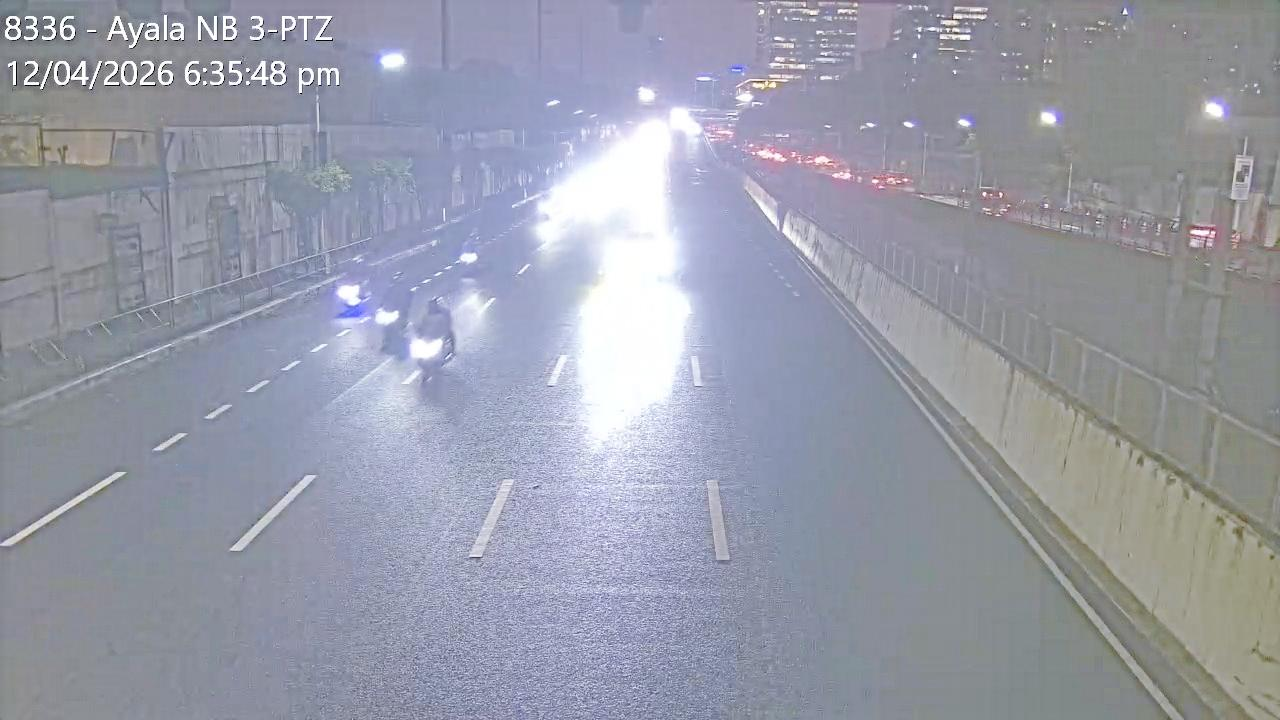Motor: (417, 304, 456, 391), (372, 286, 409, 364), (334, 280, 374, 322), (458, 241, 486, 277)
Not Accident: (370, 278, 457, 388)
